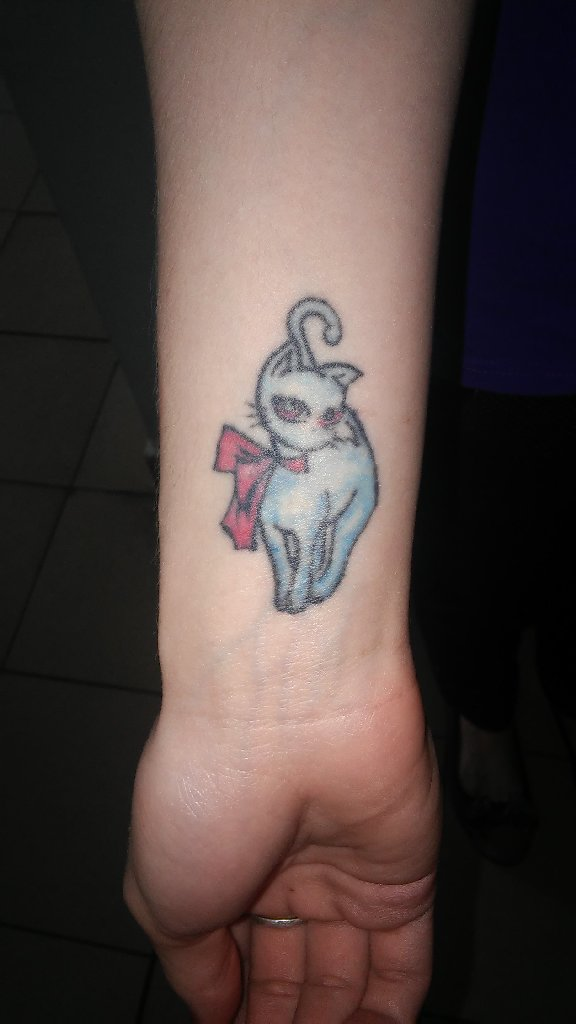tatu8_kot: (203, 271, 390, 619)
